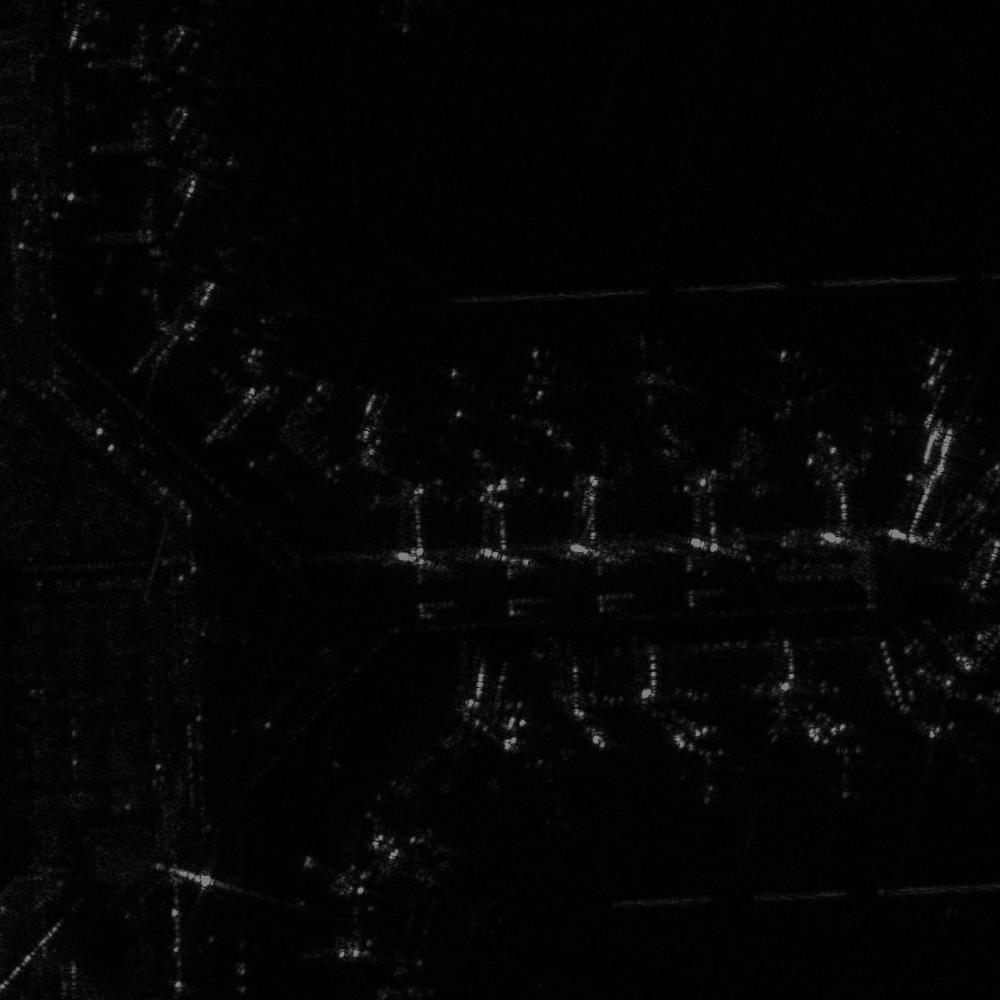A220: (215, 206, 315, 296), (416, 355, 509, 430), (986, 486, 999, 549)
A320/321: (729, 340, 851, 425), (800, 708, 890, 807), (600, 328, 700, 410), (896, 336, 983, 396)
A330: (384, 829, 517, 937)
Boeing737: (913, 712, 998, 774)
Boeing787: (670, 713, 752, 819)
other: (487, 338, 599, 411), (521, 750, 603, 835)
